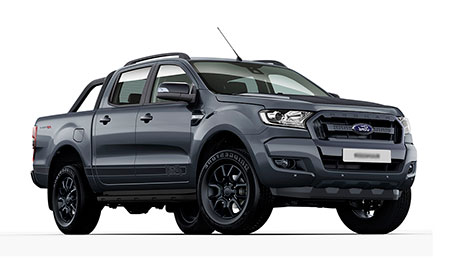pickup: (29, 50, 419, 233)
